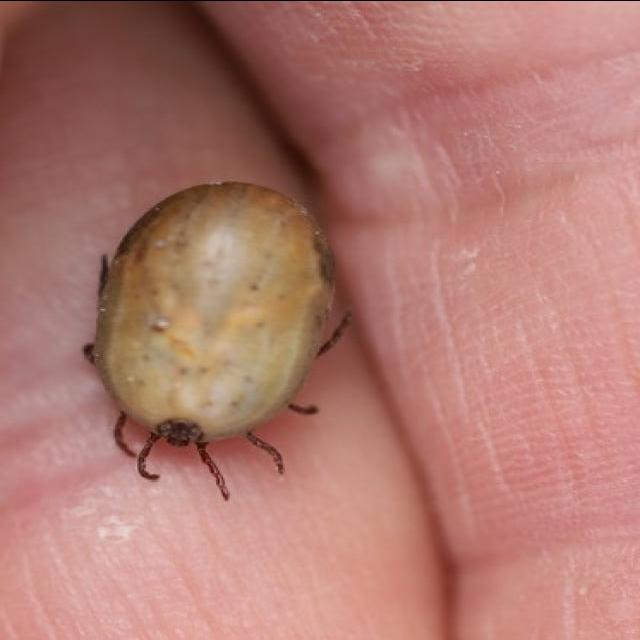Dermacentor Reticulatus-F-Fed: (82, 182, 352, 502)
